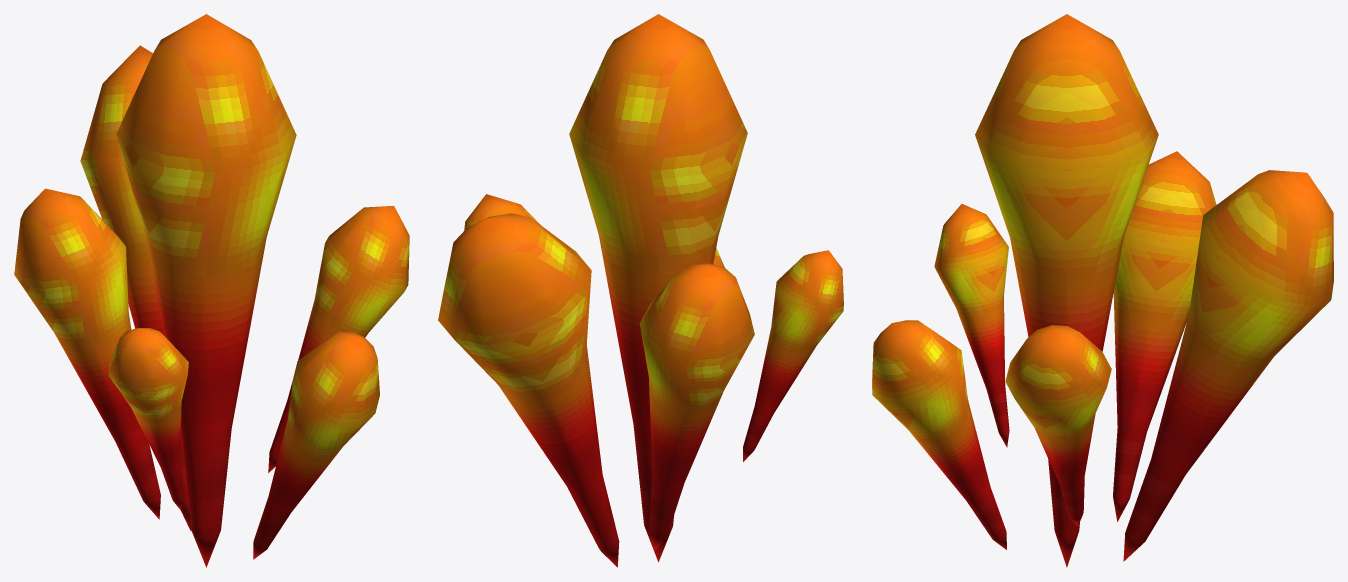
File: bangfungus.obj
3 renders of one model, left to right at view 1: azimuth 30°, elevation 25°; view 2: azimuth 150°, elevation 25°; view 3: azimuth 270°, elevation 25°, orthographic.
Visible parts, largest first — view 1: Sphere01, Duplicate06, Duplicate08, Duplicate09, Duplicate07, Duplicate10; view 2: Sphere01, Duplicate07, Duplicate06, Duplicate10, Duplicate09; view 3: Sphere01, Duplicate07, Duplicate06, Duplicate08, Duplicate09, Duplicate10.
Part boxes in pixels (bbox=[...]): Sphere01: bbox=[116, 14, 296, 567]; Duplicate06: bbox=[14, 188, 160, 519]; Duplicate08: bbox=[253, 331, 379, 559]; Duplicate09: bbox=[268, 205, 409, 472]; Duplicate07: bbox=[80, 45, 191, 531]; Duplicate10: bbox=[108, 328, 188, 509]; Sphere01: bbox=[569, 14, 747, 562]; Duplicate07: bbox=[438, 213, 619, 567]; Duplicate06: bbox=[639, 263, 754, 550]; Duplicate10: bbox=[743, 250, 843, 461]; Duplicate09: bbox=[464, 194, 540, 230]; Sphere01: bbox=[975, 14, 1158, 567]; Duplicate07: bbox=[1123, 170, 1333, 561]; Duplicate06: bbox=[1113, 151, 1216, 521]; Duplicate08: bbox=[872, 320, 1006, 549]; Duplicate09: bbox=[1005, 325, 1111, 526]; Duplicate10: bbox=[934, 204, 1009, 447].
Size of the model in its own units: 6.77 by 10.79 by 8.16.
